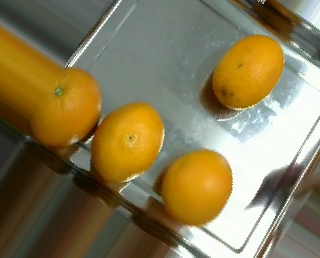Orange: (91, 101, 165, 185), (29, 67, 101, 149), (211, 34, 285, 110), (162, 148, 233, 227)
